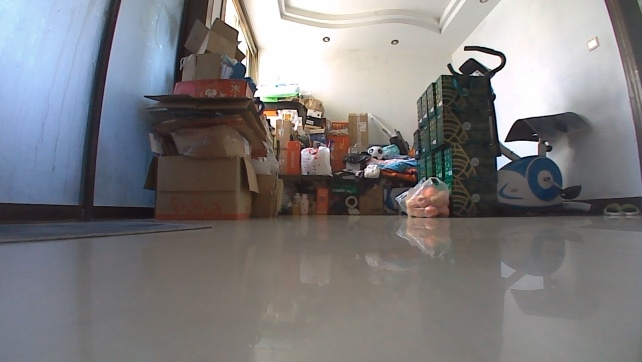blanket: (0, 218, 215, 247)
